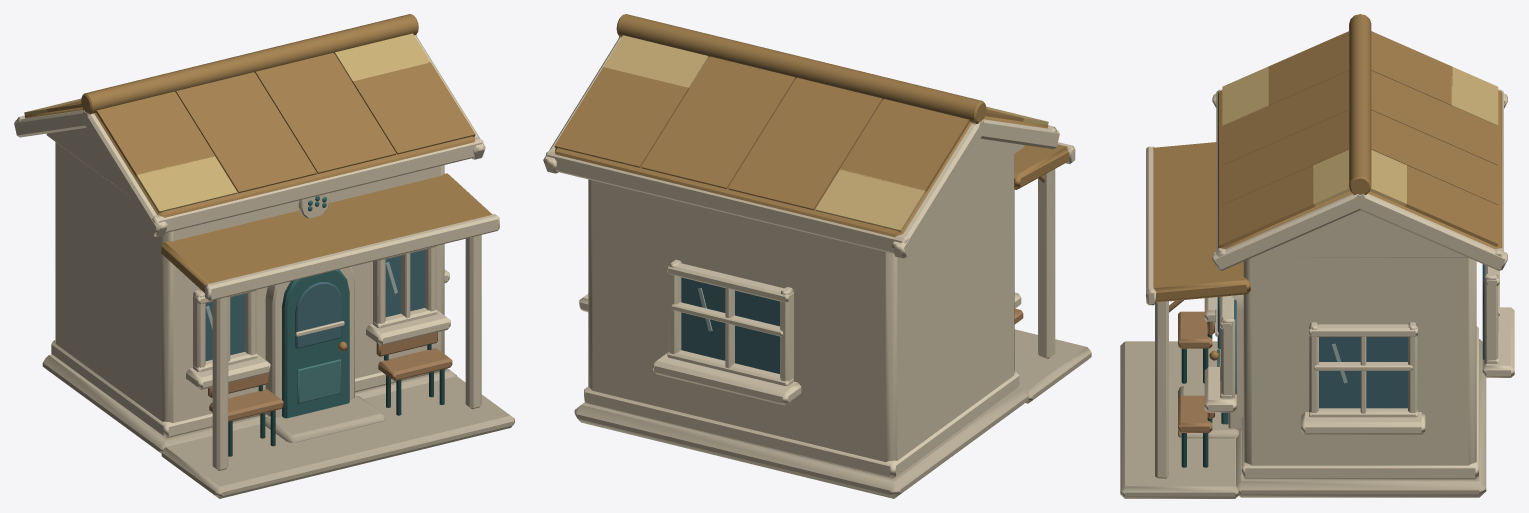
File: town_hall_level_2.glb
3 views of the same model, side by side, from view 1: azimuth 30°, elevation 25°; view 2: azimuth 150°, elevation 25°; view 3: azimuth 270°, elevation 25° (orthographic). The views are drawn at different scales.
Visible parts, largest first — view 1: town_hall_level_2_runtime; view 2: town_hall_level_2_runtime; view 3: town_hall_level_2_runtime.
Part boxes in pixels (x1,y1,x2,y2): town_hall_level_2_runtime: (14,14,514,498); town_hall_level_2_runtime: (543,14,1091,498); town_hall_level_2_runtime: (1120,14,1514,498).
Size of the model in its own units: 3.72 by 3.42 by 3.69.
